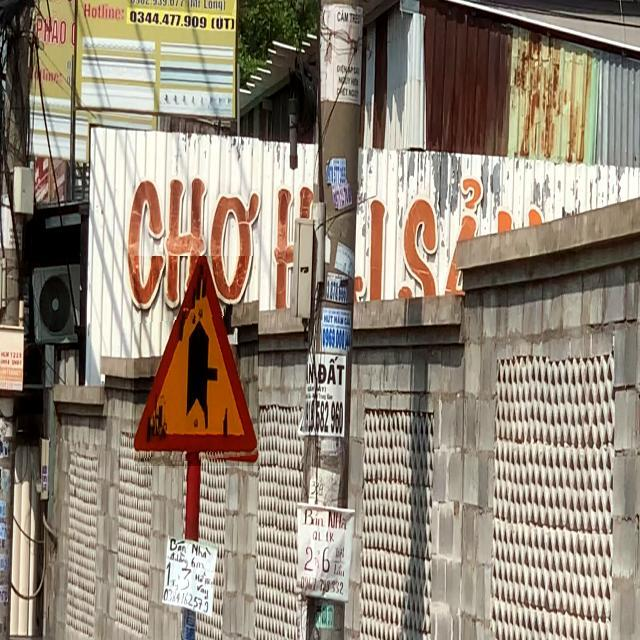W-207b: (134, 256, 259, 466)
